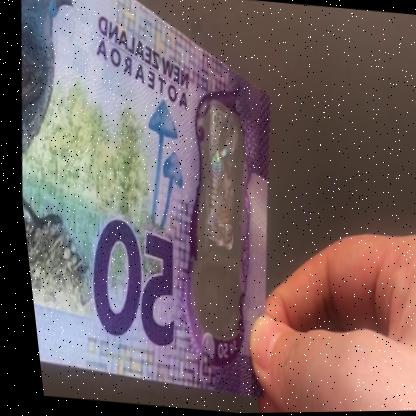50B: (172, 105, 261, 318)
